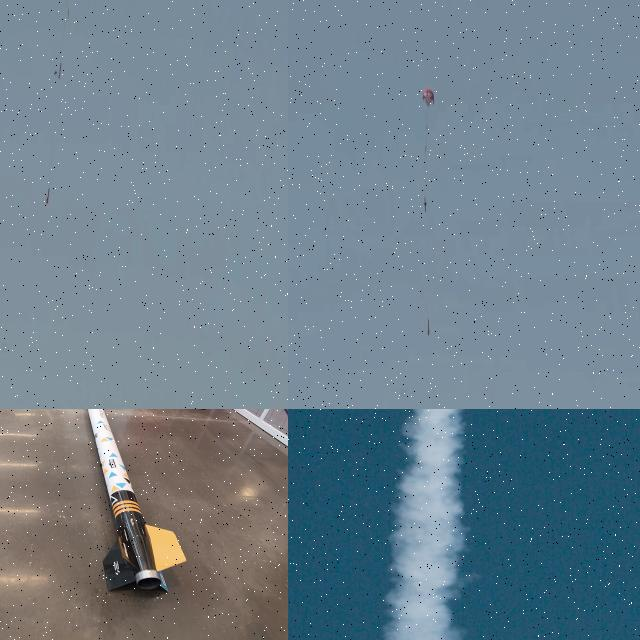Rocket: (88, 409, 187, 592), (46, 188, 50, 204), (427, 319, 430, 336)
